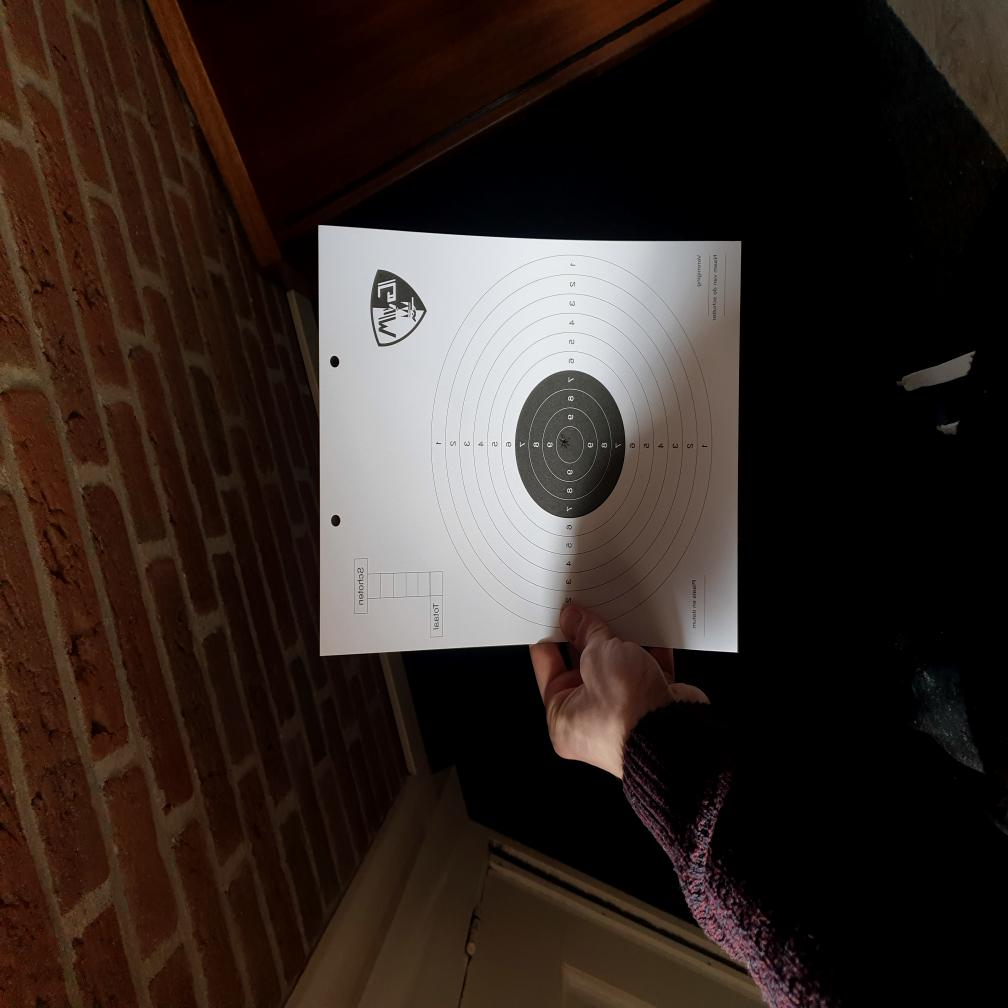10: (558, 434, 570, 449)
Target: (430, 253, 712, 627)
black_contour: (516, 371, 626, 518)
